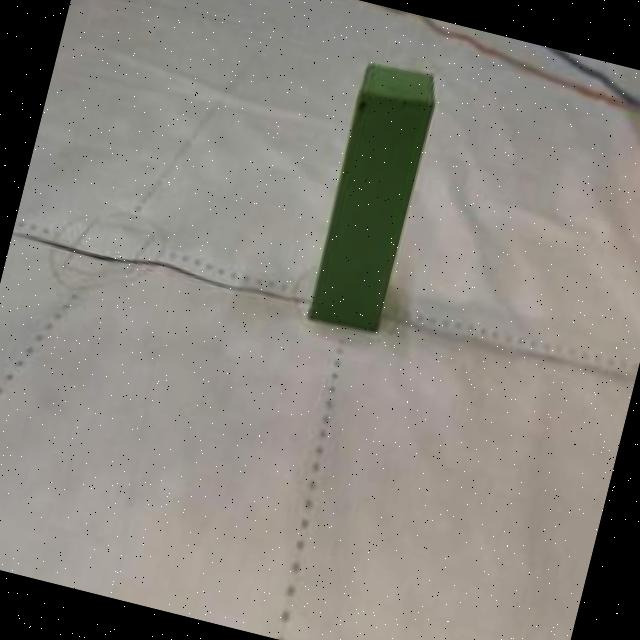greenbox: (300, 58, 442, 336)
